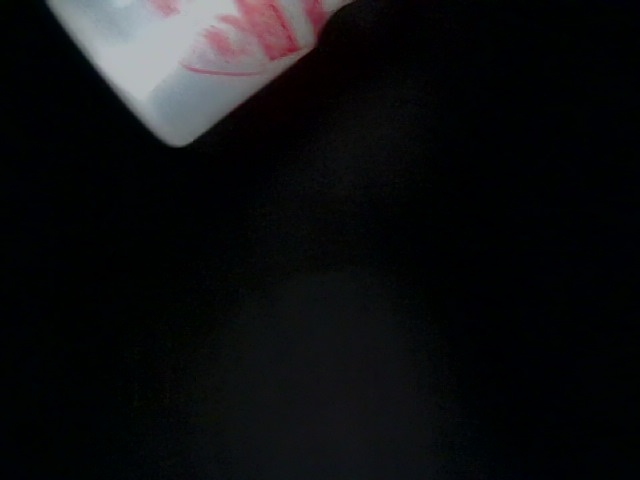CYLJ: (337, 368, 449, 469)
